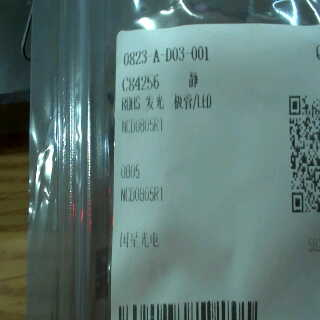LED: (140, 90, 212, 122)
